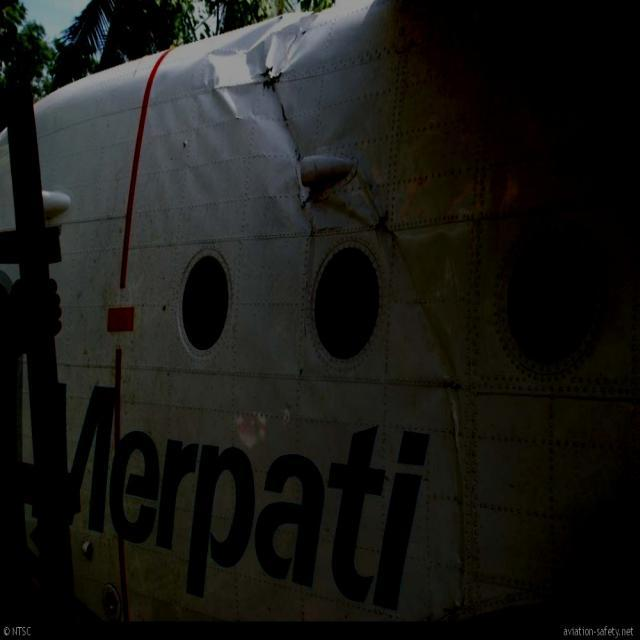crack: (258, 61, 292, 124)
dent: (203, 7, 331, 129)
